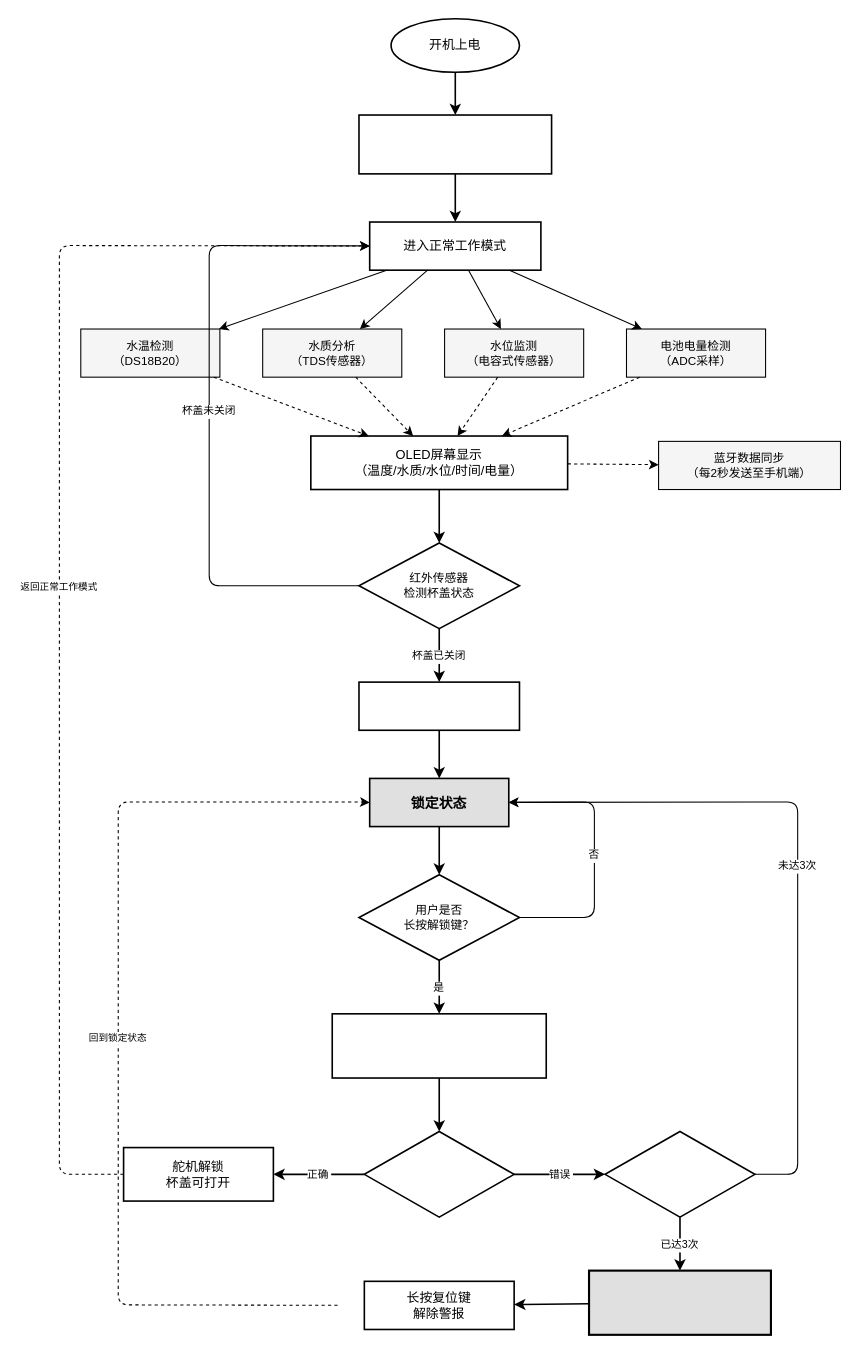
Image size: 859x1355. Some labels were removed from this diagram. The centre of each missing label's shape, as x and y in pixels:
3位密码 是否正确？: (438,1173)
系统自检初始化 （传感器/显示屏/蓝牙）: (455,144)
舵机自动上锁: (439,706)
触发安全警报 蜂鸣器持续报警 屏幕显示警告: (679,1302)
进入密码输入模式 屏幕依次滚动显示数字 用户按键确认每一位: (439,1045)
连续错误 是否达3次？: (679,1173)
